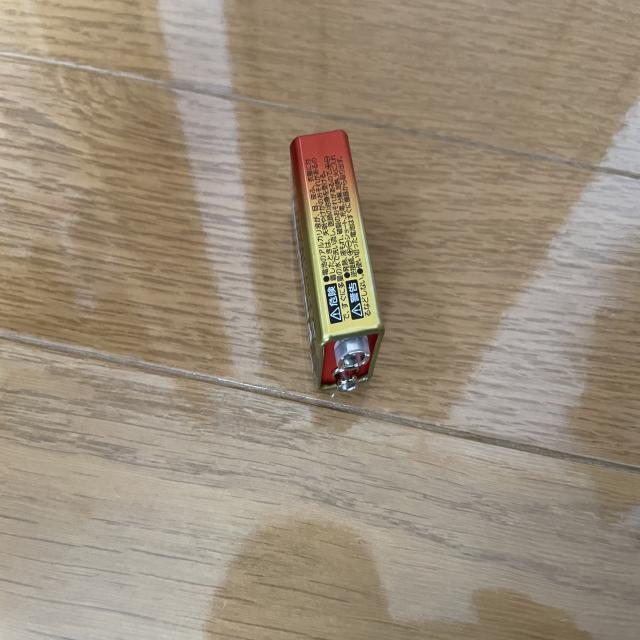9V: (290, 128, 386, 394)
